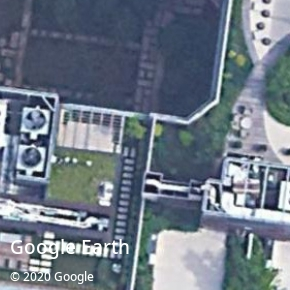Vent: (25, 110, 46, 131), (22, 147, 41, 167)
